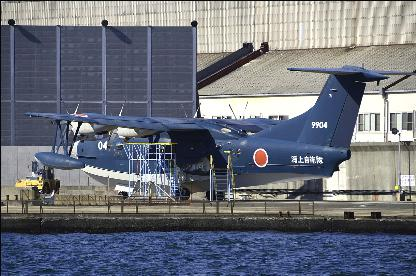Tu95: (22, 61, 414, 199)
